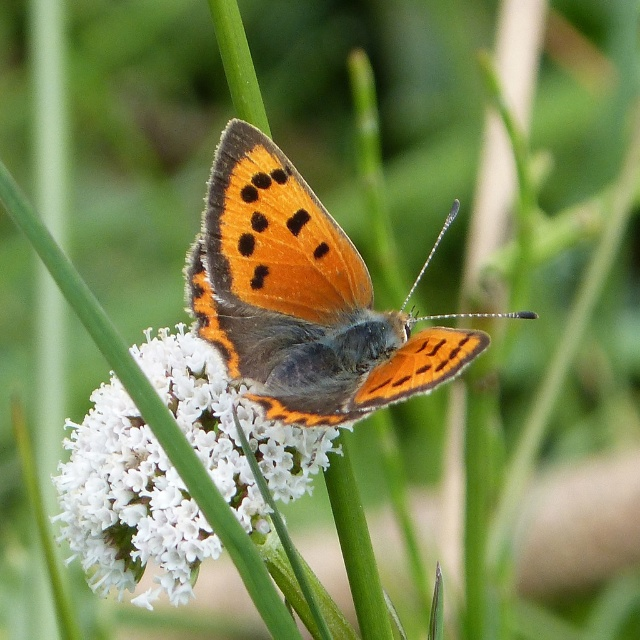Butterfly: (184, 121, 505, 456)
